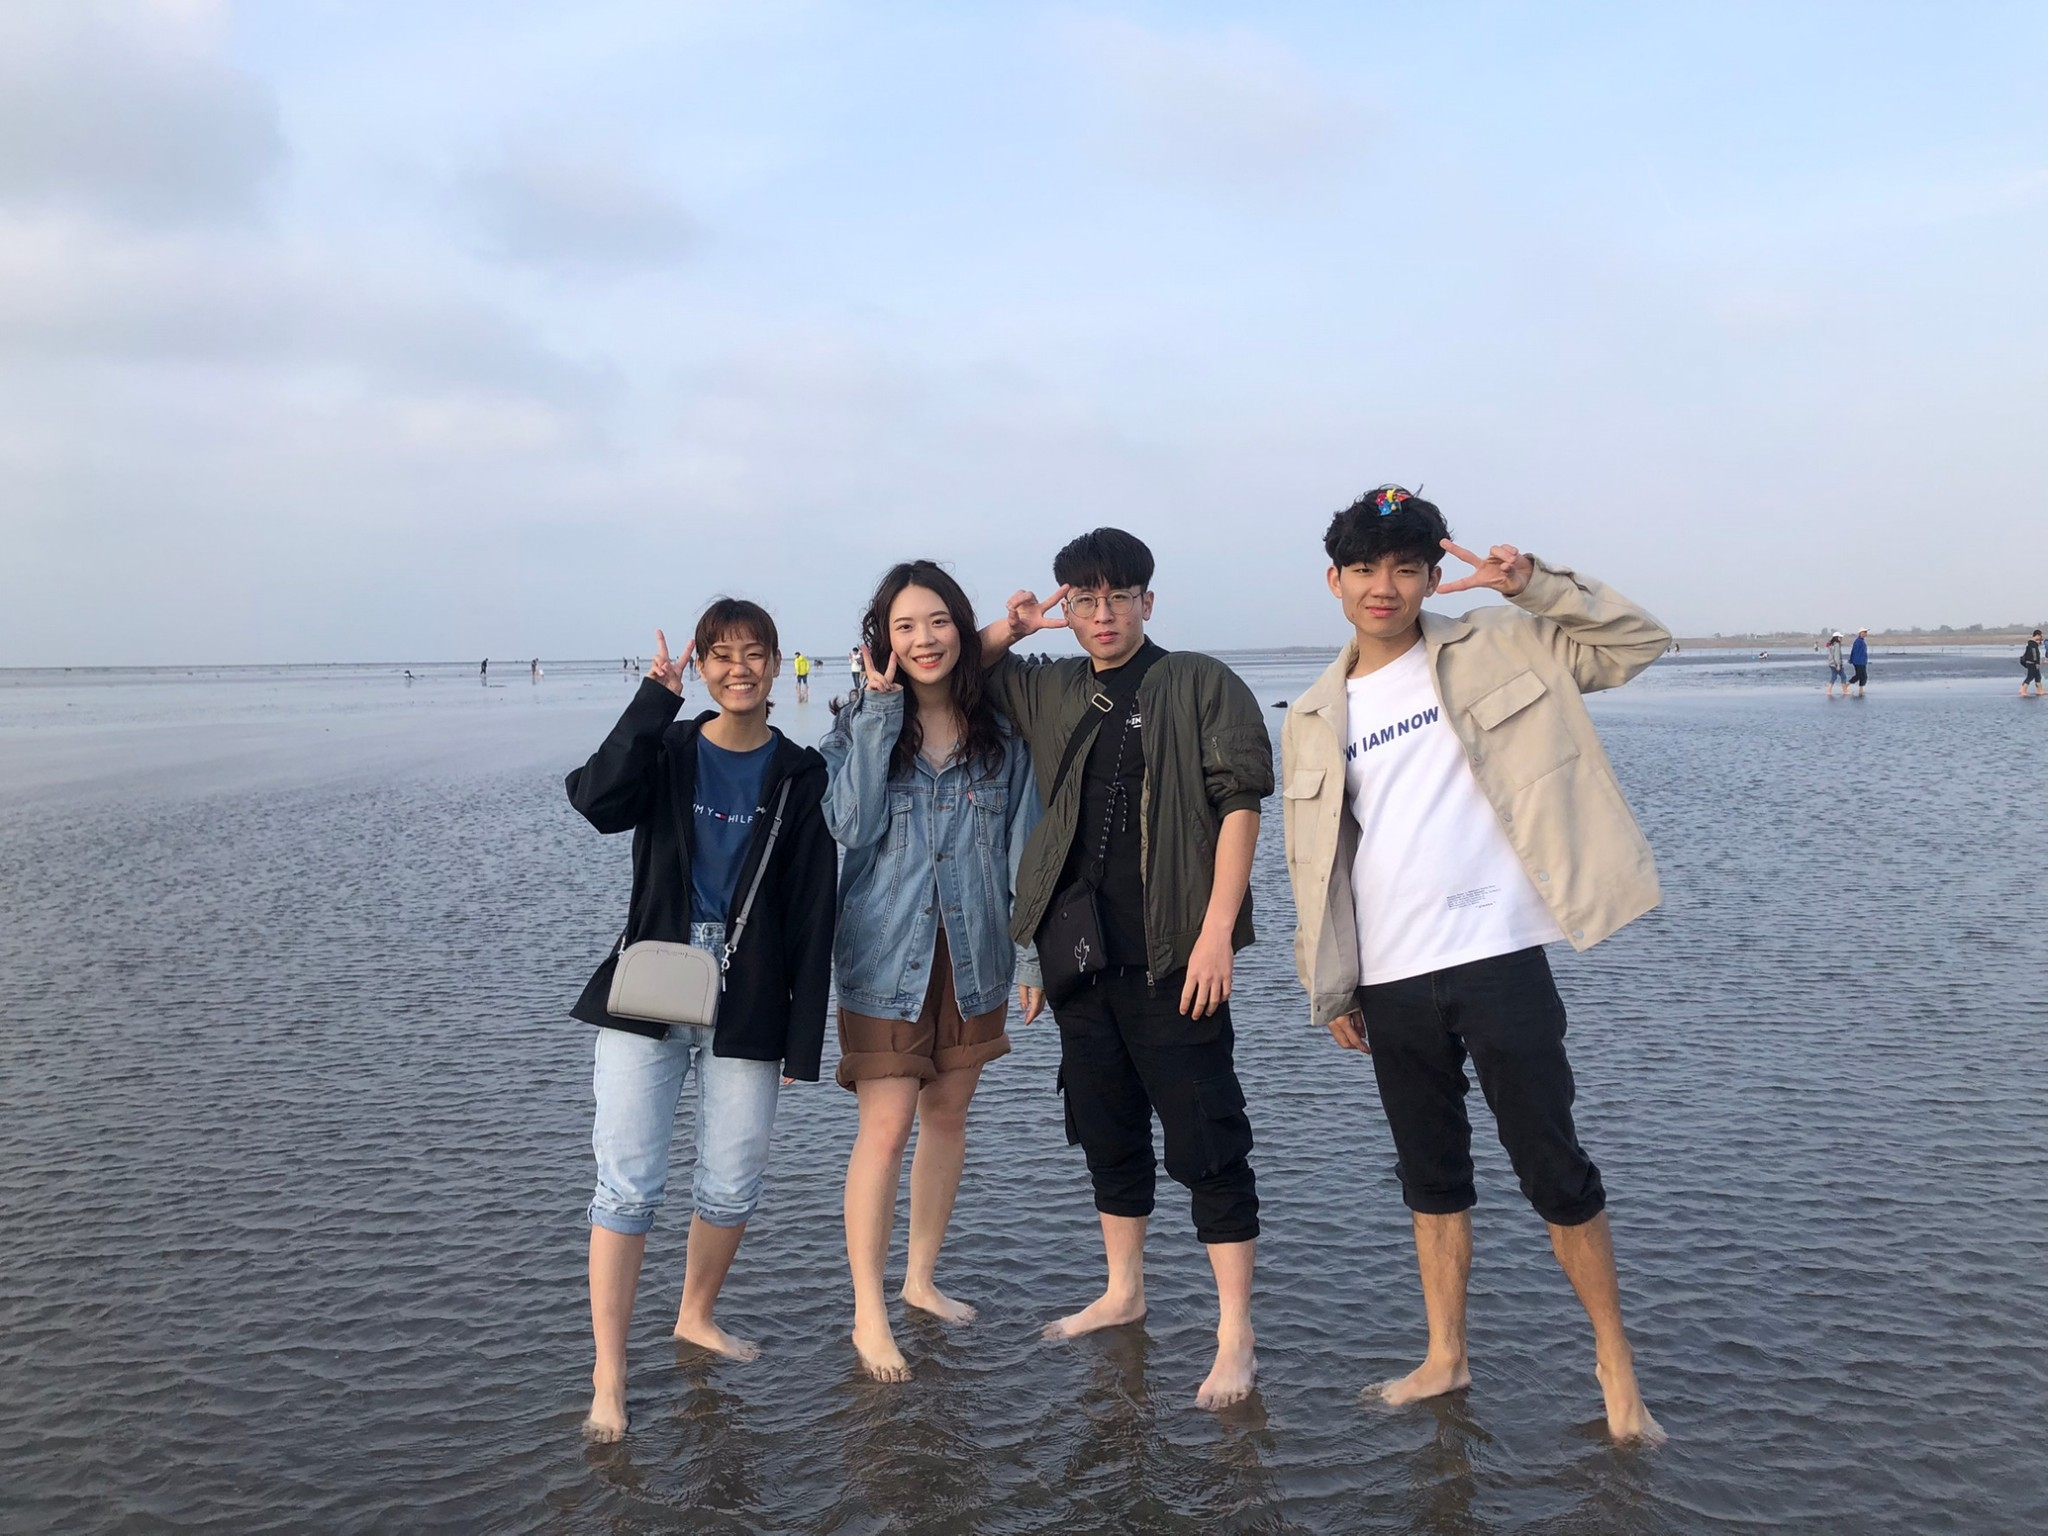people: (1287, 469, 1678, 1478), (1019, 525, 1290, 1393), (619, 596, 790, 1434), (825, 560, 990, 1384), (1852, 628, 1875, 722), (1825, 631, 1849, 702), (2025, 631, 2048, 702)
